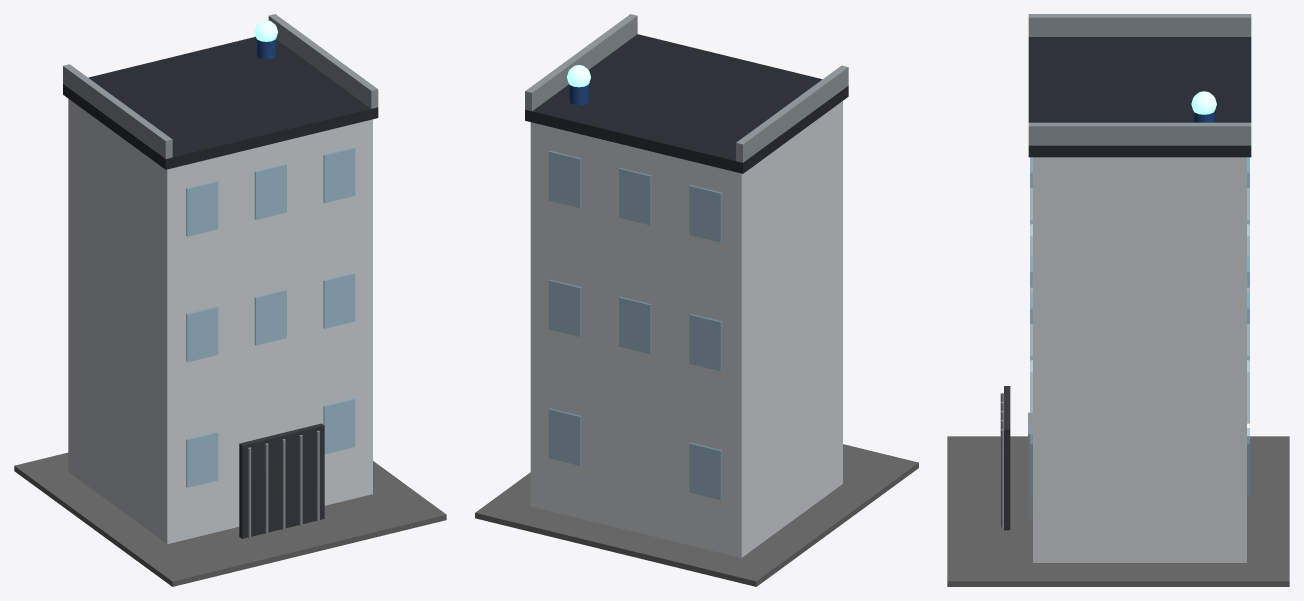
File: bld_special_police_a08.glb
The picture shows the model from 3 angles, left to right: view 1: azimuth 30°, elevation 25°; view 2: azimuth 150°, elevation 25°; view 3: azimuth 270°, elevation 25°; orthographic projection. The views are drawn at different scales.
Parts seen in each view (by area): view 1: body; view 2: body; view 3: body.
Part boxes in pixels (x1,y1,x2,y2): body: [14, 14, 446, 586]; body: [475, 14, 918, 586]; body: [947, 14, 1289, 586].
Size of what is drawn, in the model's own units: 8 by 11.9 by 8.
